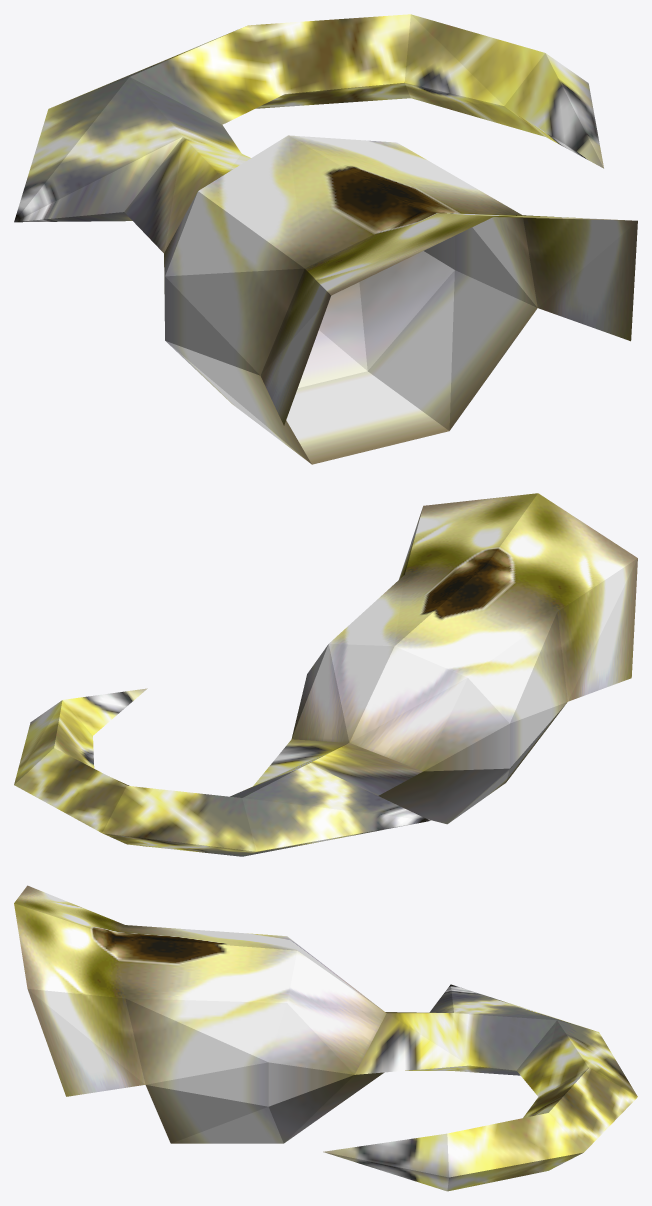
The model's file is twinblade103_5.obj.
3 renders of one model, top to bottom at view 1: azimuth 30°, elevation 25°; view 2: azimuth 150°, elevation 25°; view 3: azimuth 270°, elevation 25°, orthographic. The views are drawn at different scales.
Visible parts, largest first — view 1: MDL_cwdhkn03_5r; view 2: MDL_cwdhkn03_5r; view 3: MDL_cwdhkn03_5r.
Part boxes in pixels (left/top/right/bottom): MDL_cwdhkn03_5r: left=14, top=14, right=637, bottom=464; MDL_cwdhkn03_5r: left=14, top=493, right=637, bottom=856; MDL_cwdhkn03_5r: left=14, top=885, right=637, bottom=1191.
Size of the model in its own units: 0.3438 by 0.1774 by 0.4625.
